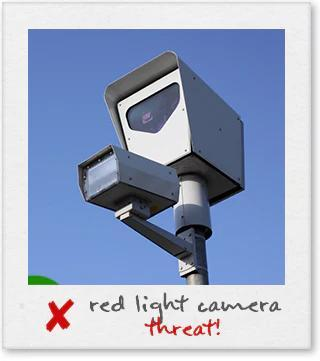Monitor: (70, 55, 252, 244)
